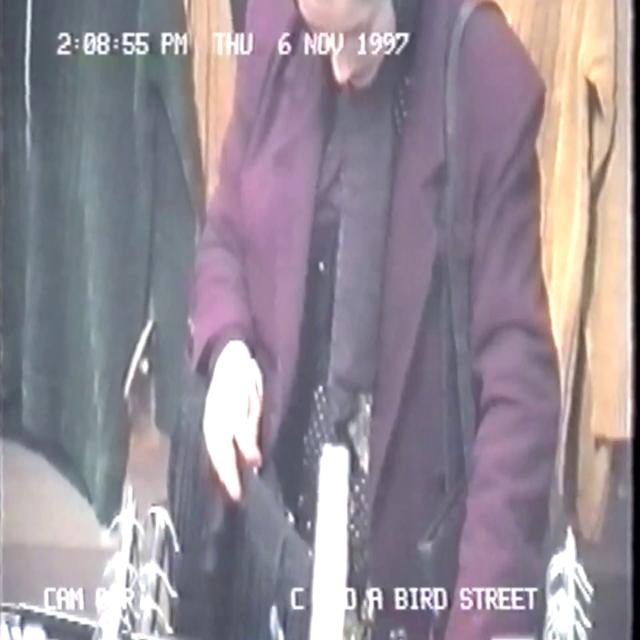Product: (168, 381, 299, 640)
shoplifting: (174, 0, 636, 640)
